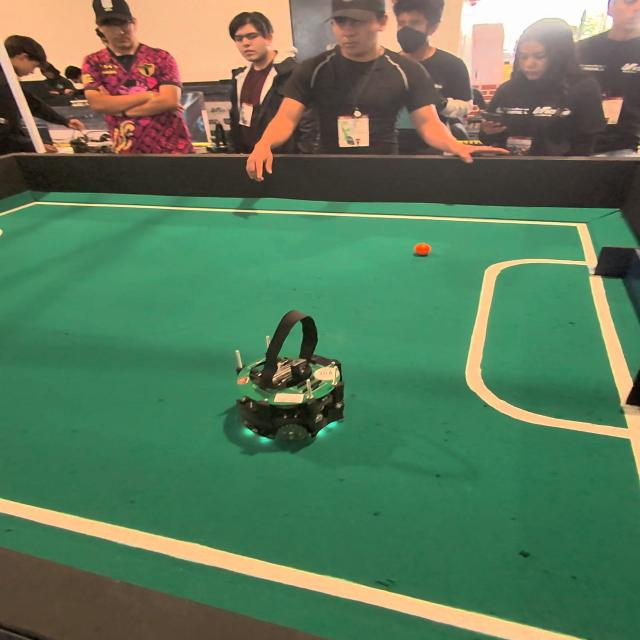Robot: (223, 297, 357, 463)
pelota: (407, 239, 438, 264)
